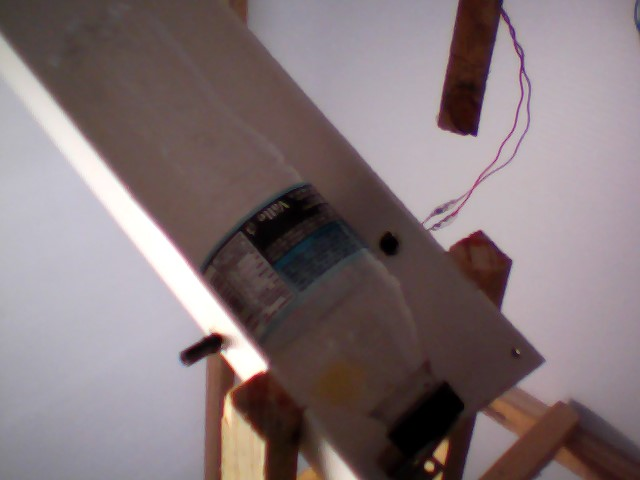plastico: (44, 1, 467, 459)
